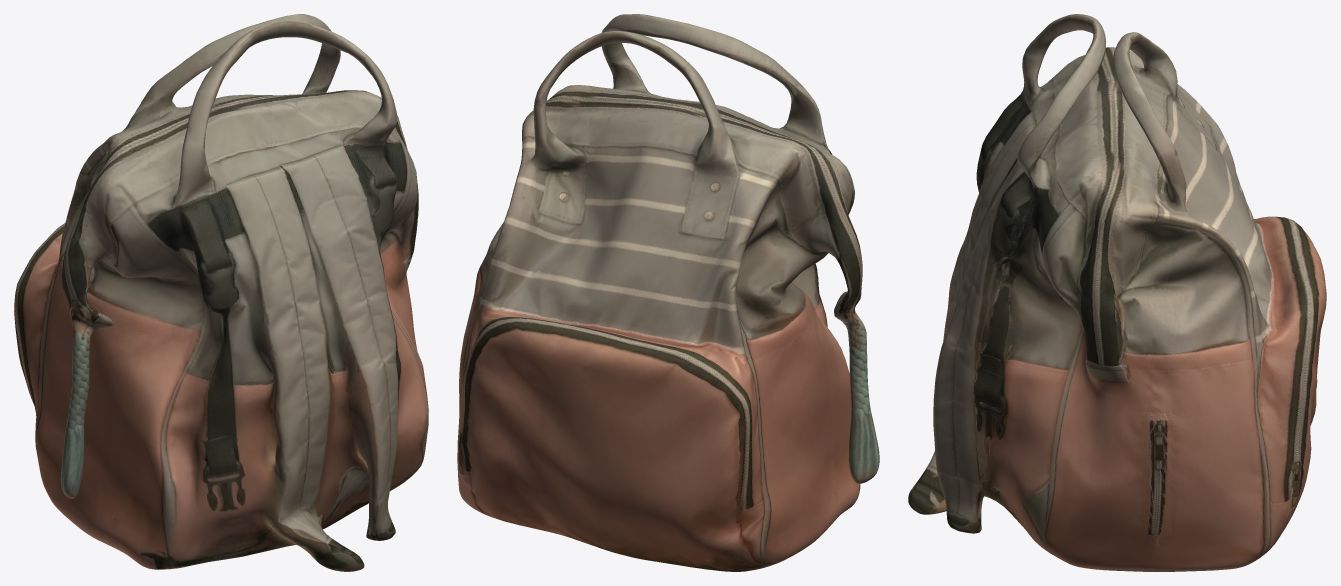
The picture shows the model from 3 angles, left to right: view 1: azimuth 30°, elevation 25°; view 2: azimuth 150°, elevation 25°; view 3: azimuth 270°, elevation 25°; orthographic projection. The views are drawn at different scales.
Visible parts, largest first — view 1: Object_2; view 2: Object_2; view 3: Object_2.
Part boxes in pixels (x1,y1,x2,y2): Object_2: (14, 14, 428, 571); Object_2: (457, 14, 879, 571); Object_2: (908, 14, 1326, 571).
Size of the model in its own units: 0.3559 by 0.4468 by 0.3449.
1 material, 1 textured.
